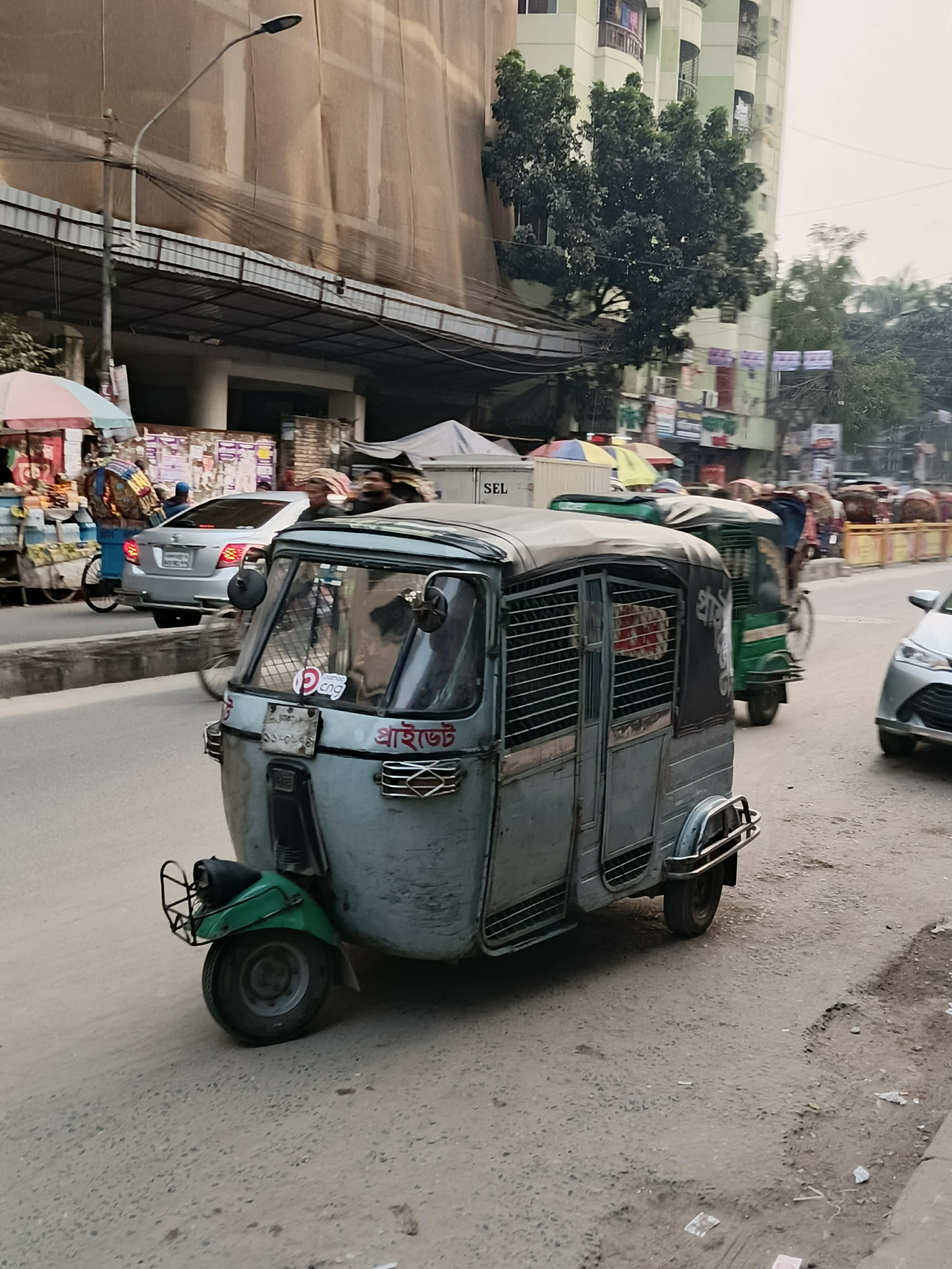cng: (147, 485, 764, 1055)
